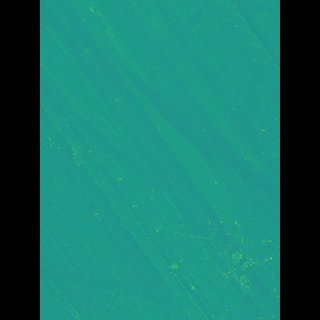Loch: (134, 0, 251, 215), (69, 262, 249, 320)
